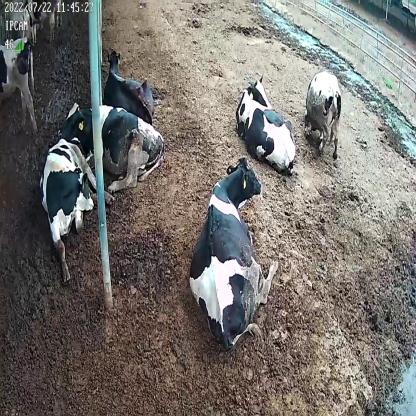cow: (186, 155, 278, 346), (40, 129, 113, 280), (53, 97, 164, 194), (236, 72, 298, 174), (106, 45, 157, 122), (302, 67, 342, 164)
